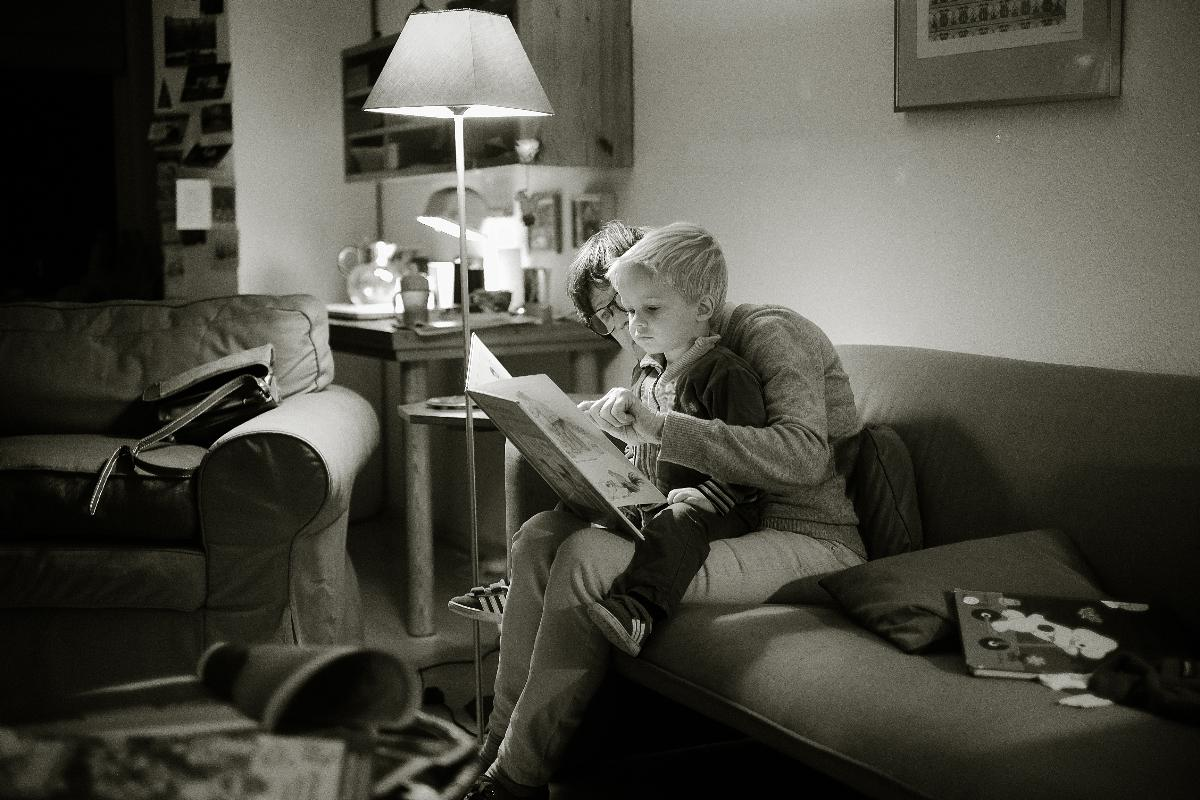Person: (489, 220, 864, 800)
